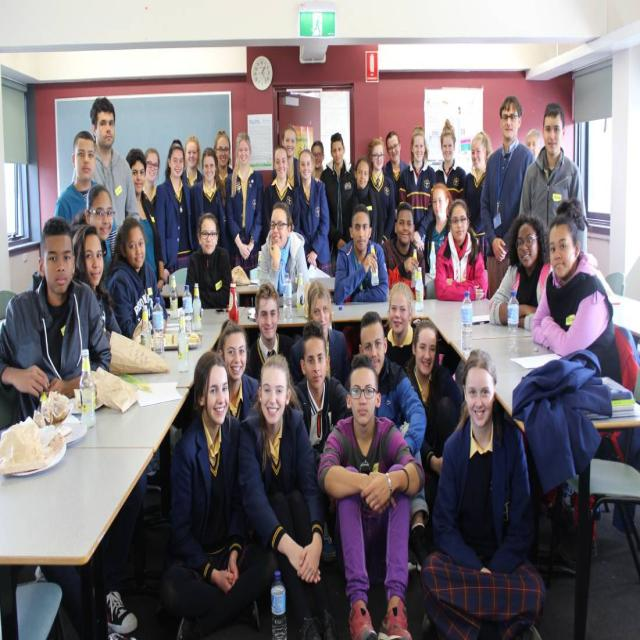body: (0, 217, 138, 640), (420, 345, 549, 639), (314, 351, 428, 639), (234, 349, 340, 639), (164, 349, 264, 640), (358, 308, 430, 566), (529, 196, 623, 385), (294, 320, 354, 560), (403, 318, 465, 520), (480, 93, 538, 305), (518, 101, 589, 254), (71, 95, 141, 232), (52, 129, 119, 271), (103, 214, 168, 341), (487, 212, 554, 334), (333, 202, 390, 329), (288, 278, 350, 390), (71, 222, 123, 346), (154, 142, 196, 287), (224, 130, 265, 278), (124, 147, 165, 294), (434, 196, 490, 303), (243, 279, 299, 384), (319, 131, 358, 279), (258, 200, 310, 307), (291, 148, 332, 279), (396, 124, 436, 253), (462, 130, 495, 284), (66, 182, 116, 280), (185, 210, 233, 312), (379, 200, 426, 301), (187, 145, 229, 254), (217, 318, 260, 422), (260, 145, 302, 250), (341, 155, 381, 246), (368, 136, 396, 246), (384, 278, 416, 366), (423, 181, 452, 275), (434, 117, 466, 201), (381, 130, 409, 210), (273, 126, 300, 190), (180, 135, 205, 189), (213, 128, 234, 186), (142, 147, 161, 207), (165, 133, 184, 178), (524, 128, 544, 162), (310, 140, 325, 184)
